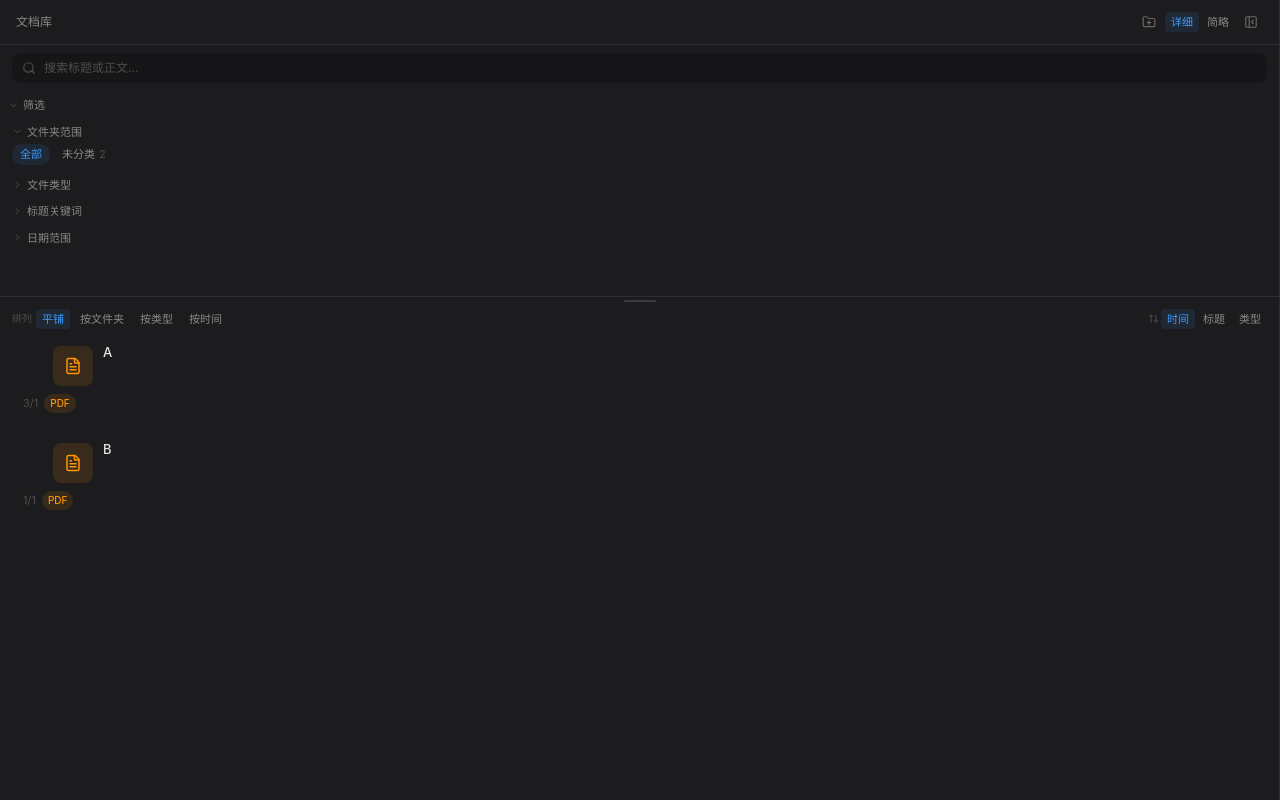
Test: 相关度排序键 › 「相关度」键只在**本次搜索真有命中**时出现（避免一个点不动的死键）
Type "关键词" into the field with placeholder "搜索标题或正文…" at (650,68), box [44,59,1257,77]
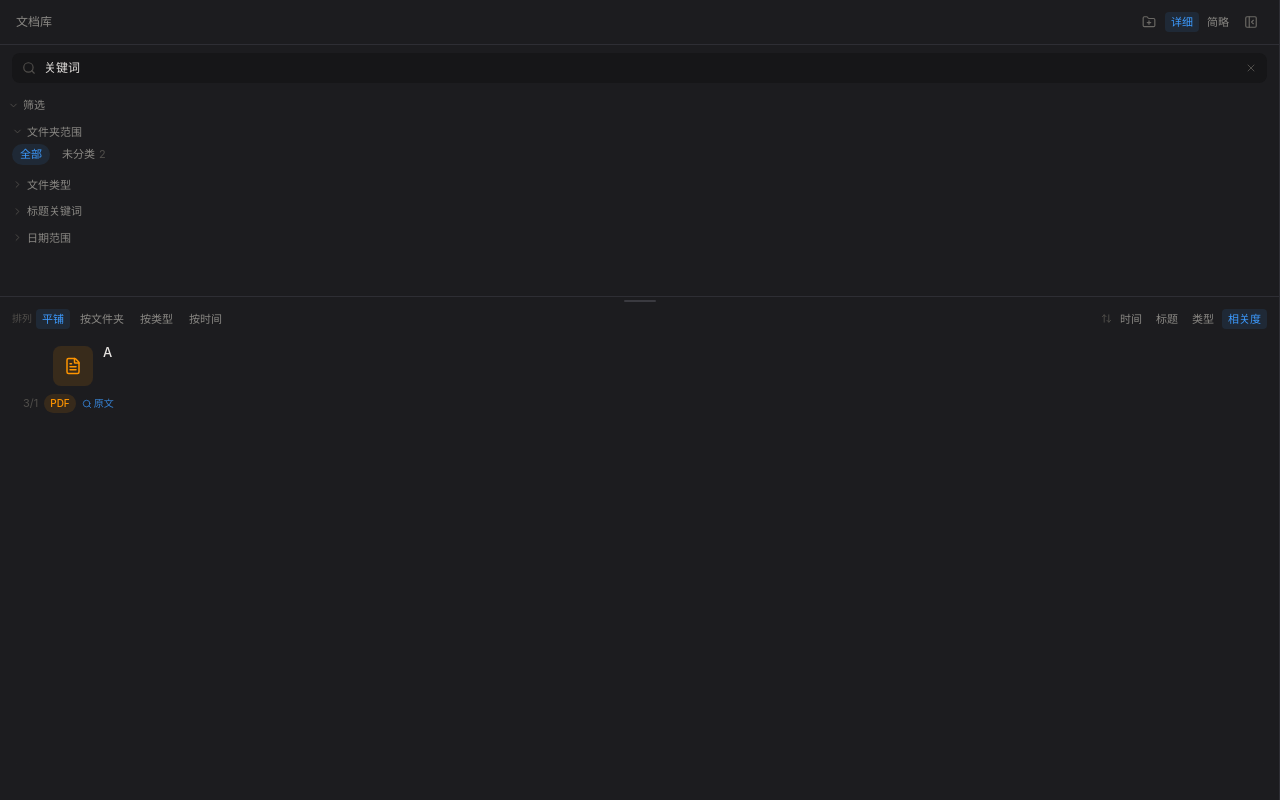
Expected: the button "相关度" is shown, [1222,308,1267,329]
